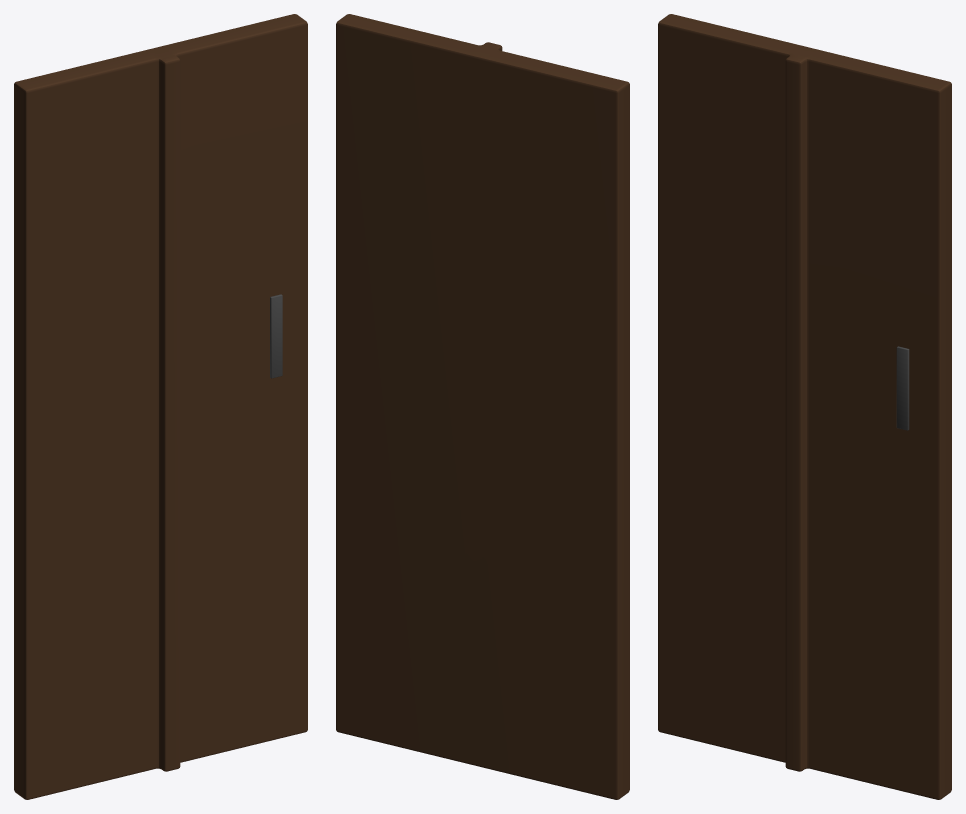
Rendered from FM_H_SH_02_Door_001.fbx.
The picture shows the model from 3 angles, left to right: view 1: azimuth 30°, elevation 25°; view 2: azimuth 150°, elevation 25°; view 3: azimuth 330°, elevation 25°; orthographic projection.
Parts seen in each view (by area): view 1: FM_H_Small_H_02_Door_001; view 2: FM_H_Small_H_02_Door_001; view 3: FM_H_Small_H_02_Door_001.
Part boxes in pixels (x1,y1,x2,y2): FM_H_Small_H_02_Door_001: (14, 14, 307, 799); FM_H_Small_H_02_Door_001: (336, 14, 629, 799); FM_H_Small_H_02_Door_001: (658, 14, 951, 799).
Bounding box in the file's own units: 1.03 × 2.48 × 0.1186.
